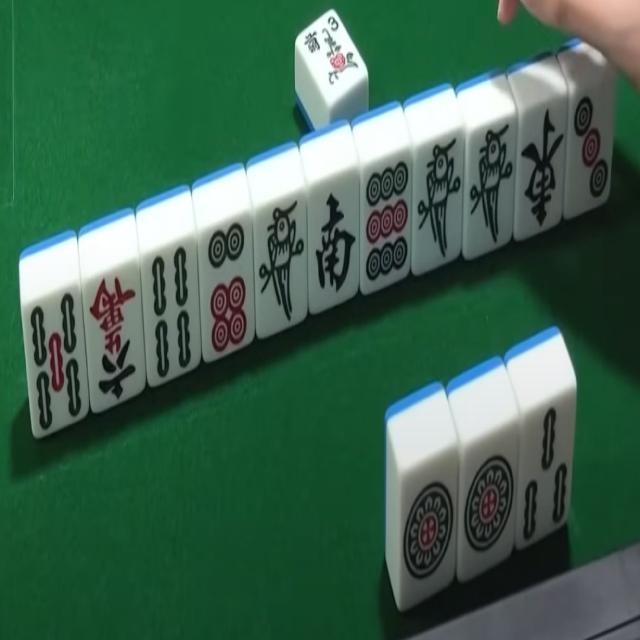east: (516, 98, 570, 236)
f3: (294, 8, 364, 104)
m6: (83, 268, 150, 414)
s1: (412, 137, 466, 269), (466, 123, 519, 257), (256, 206, 309, 336)
s3: (515, 404, 574, 551)
s4: (141, 238, 199, 386)
s5: (22, 288, 92, 442)
south: (308, 183, 356, 310)
t1: (388, 459, 464, 595), (454, 438, 520, 566)
t3: (567, 86, 617, 210)
t6: (199, 217, 255, 363)
t9: (361, 152, 413, 288)
